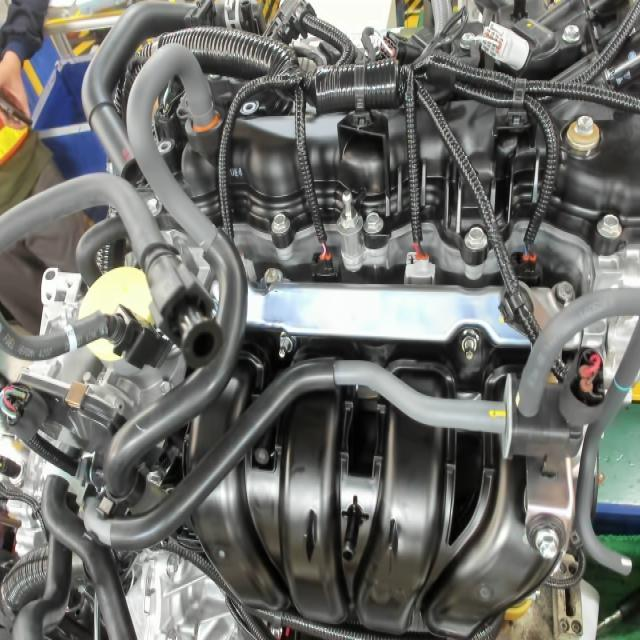Hose Canister-HJ: (610, 375, 631, 399)
Tube Sub Assy Fuel-W: (55, 315, 85, 358)
